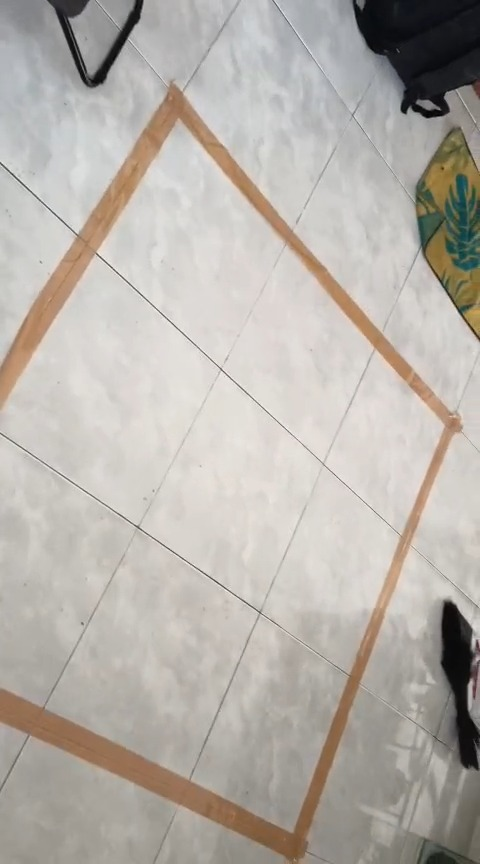floor marking: (0, 85, 461, 863)
